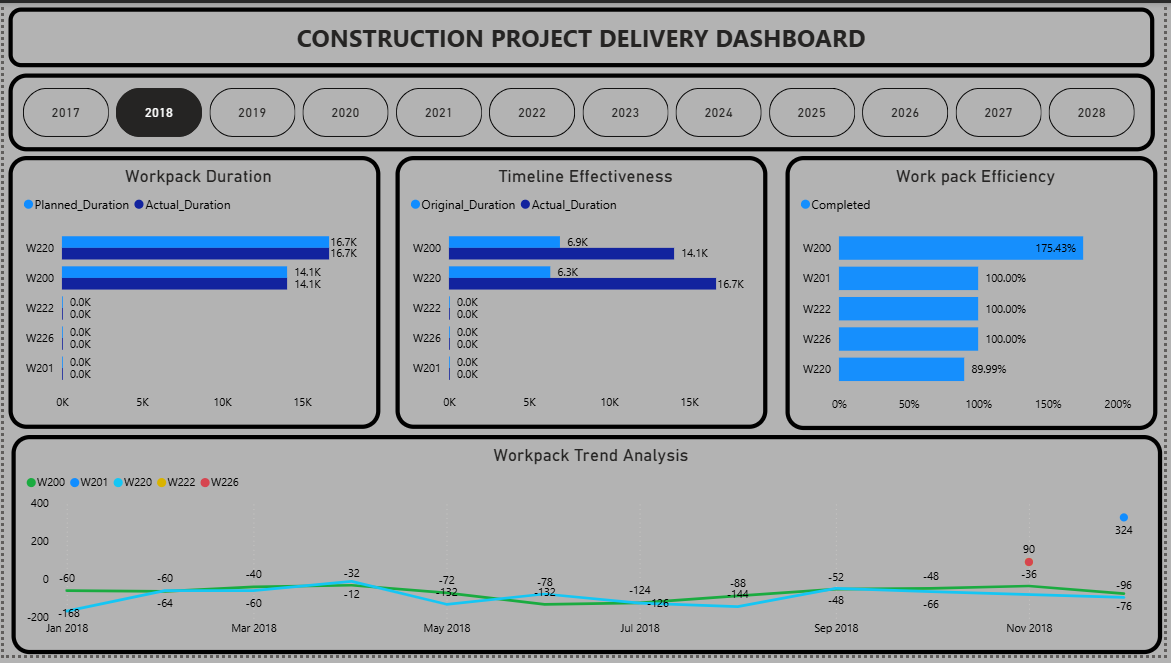

Layout of this report page (visuals, bound fields, positions):
{"tool":"powerbi","page":{"name":"Executive Dashboard","canvas":[1280,720],"ordinal":0},"visuals":[{"type":"clusteredBarChart","title":"Work pack Efficiency","fields":{"Category":["SC Plans.CTO_PG_Workpack_Number"],"Y":["Avg(SC Plans.Eff_ratio)"],"Series":["SC Plans.Activity Status"]},"box":[863.1,169.1,410.3,302.8],"z":0},{"type":"clusteredBarChart","title":"Timeline Effectiveness","fields":{"Category":["SC Plans.CTO_PG_Workpack_Number"],"Y":["Sum(SC Plans.Original Duration)","Sum(SC Plans.Actual Duration)"]},"box":[433.1,169.1,410.3,301.3],"z":1000},{"type":"advancedSlicerVisual","fields":{"Values":["SC Plans.Finish.Variation.Date Hierarchy.Year"]},"box":[4.5,77.2,1265.9,86.3],"z":2000},{"type":"clusteredBarChart","title":"Workpack Duration","fields":{"Category":["SC Plans.CTO_PG_Workpack_Number"],"Y":["Sum(SC Plans.Planned_Duration)","Sum(SC Plans.Actual_Duration)"]},"box":[4.5,169.1,410.3,301.3],"z":3000},{"type":"lineChart","title":"Workpack Trend Analysis","fields":{"Category":["SC Plans.Finish.Variation.Date Hierarchy.Year","SC Plans.Finish.Variation.Date Hierarchy.Month"],"Y":["Sum(SC Plans.Actuals & Gate 2 Submission Cost)"],"Series":["SC Plans.CTO_PG_Workpack_Number"]},"box":[9.1,477,1270.4,242.3],"z":4000},{"type":"textbox","box":[5,5,1265.6,66.3],"z":5000}]}

Visuals, with their boxes in screenshot pixels (x1, y1, x2, y2), scaled from the page's 1280x720 canvas onto the 1171x663 screenshot:
"Work pack Efficiency" clusteredBarChart: (x1=790, y1=156, x2=1165, y2=435)
"Timeline Effectiveness" clusteredBarChart: (x1=396, y1=156, x2=772, y2=433)
advancedSlicerVisual - SC Plans.Finish.Variation.Date Hierarchy.Year: (x1=4, y1=71, x2=1162, y2=151)
"Workpack Duration" clusteredBarChart: (x1=4, y1=156, x2=379, y2=433)
"Workpack Trend Analysis" lineChart: (x1=8, y1=439, x2=1170, y2=662)
textbox: (x1=5, y1=5, x2=1162, y2=66)
